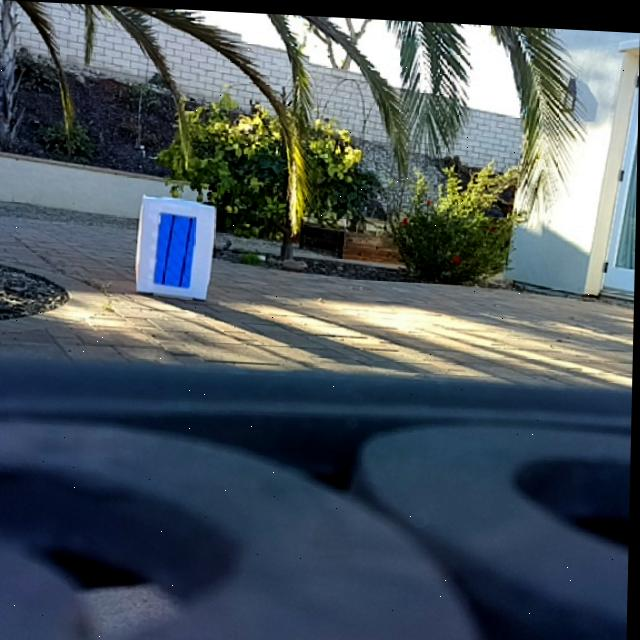led: (153, 207, 198, 287)
